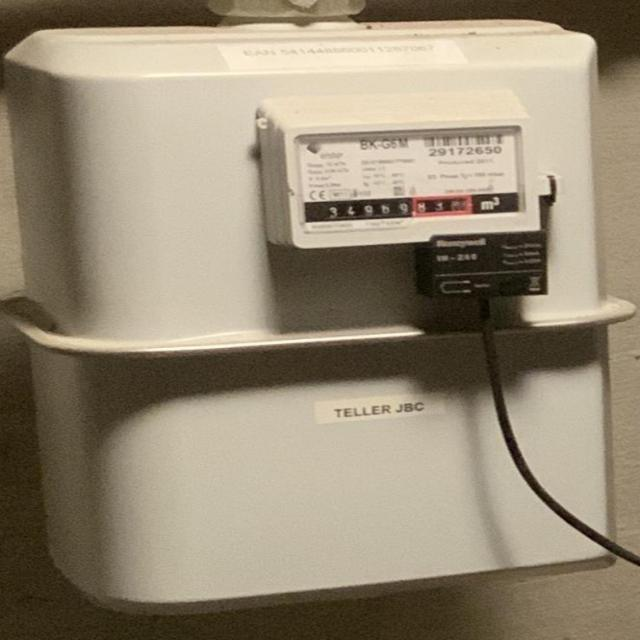gaz_meter: (293, 131, 532, 220)
indication: (303, 194, 474, 222)
